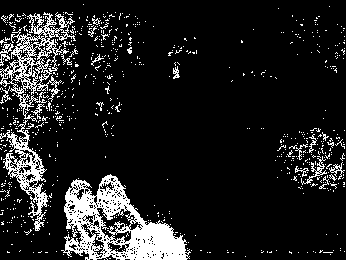person: (4, 129, 50, 233), (62, 175, 102, 260), (104, 174, 133, 260)
